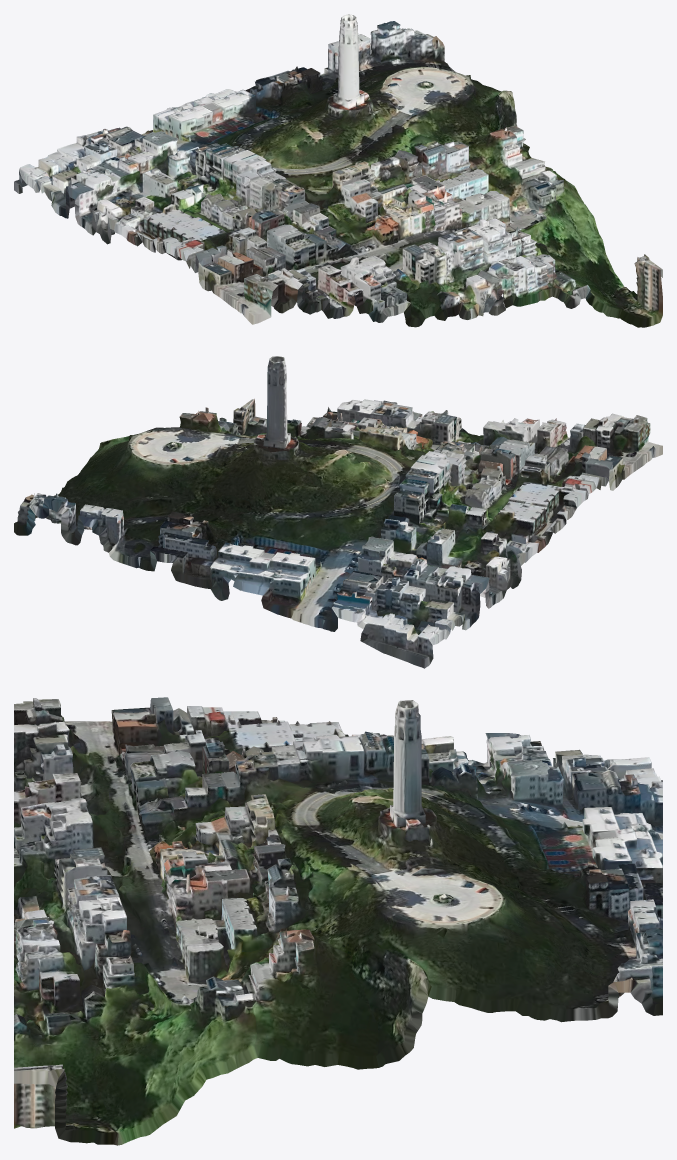
File: z17-20969-50649-h0-yup-uvflip-v3-world.glb
The picture shows the model from 3 angles, top to bottom: view 1: azimuth 30°, elevation 25°; view 2: azimuth 150°, elevation 25°; view 3: azimuth 270°, elevation 25°; orthographic projection. The views are drawn at different scales.
Bounding box in the file's own units: 241 × 136 × 243.
Materials: 1 (1 with a texture image).
